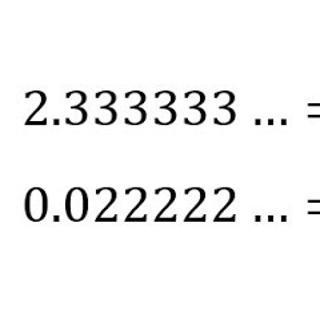.: (275, 210, 290, 224), (277, 113, 290, 127), (263, 211, 276, 224), (50, 211, 62, 225), (265, 115, 277, 127), (253, 115, 264, 126), (251, 213, 262, 224), (51, 116, 61, 127)
0: (22, 177, 49, 228), (63, 184, 92, 227)
2: (19, 84, 49, 131), (211, 181, 241, 225), (177, 184, 209, 224), (92, 186, 121, 226), (121, 186, 152, 223), (151, 184, 180, 223)
3: (175, 88, 210, 127), (147, 89, 178, 129), (63, 85, 89, 132), (91, 87, 119, 128), (210, 89, 238, 127), (120, 89, 147, 128)
